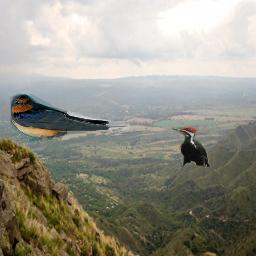Swallow: (8, 92, 130, 141)
Woodpecker: (172, 124, 211, 170)
